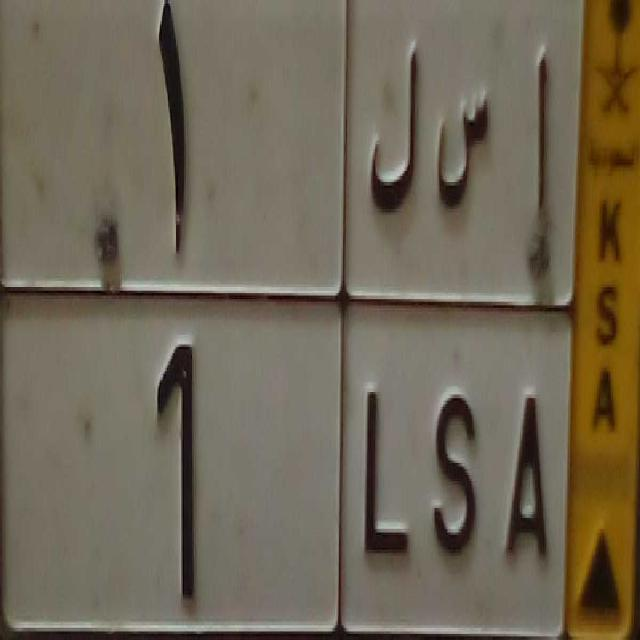license_plate: (0, 284, 567, 640)
